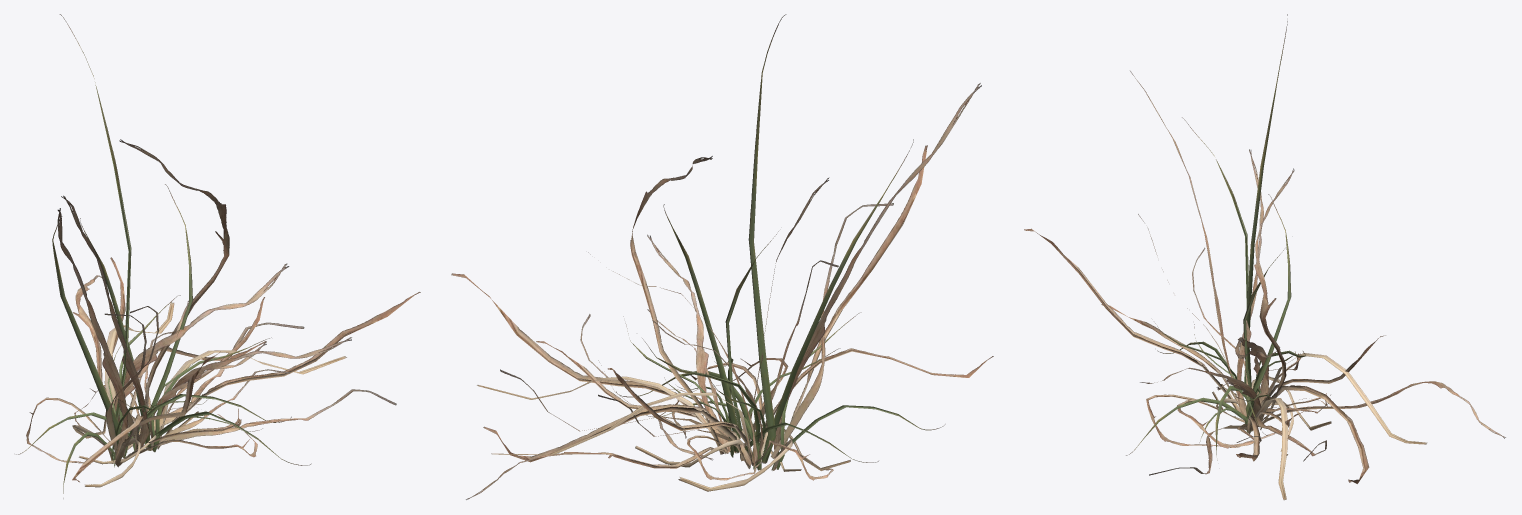
The model's file is grass_medium_02_b.glb.
3 views of the same model, side by side, from view 1: azimuth 30°, elevation 25°; view 2: azimuth 150°, elevation 25°; view 3: azimuth 270°, elevation 25° (orthographic). The views are drawn at different scales.
Visible parts, largest first — view 1: grass_medium_02_b__lod0; view 2: grass_medium_02_b__lod0; view 3: grass_medium_02_b__lod0.
Boxes of the visible parts, box(x1,y1,x2,y2) form: grass_medium_02_b__lod0: box(16, 14, 420, 498); grass_medium_02_b__lod0: box(451, 14, 993, 499); grass_medium_02_b__lod0: box(1024, 14, 1505, 500).
Size of the model in its own units: 0.1791 by 0.1796 by 0.1993.
1 material, 1 textured.
